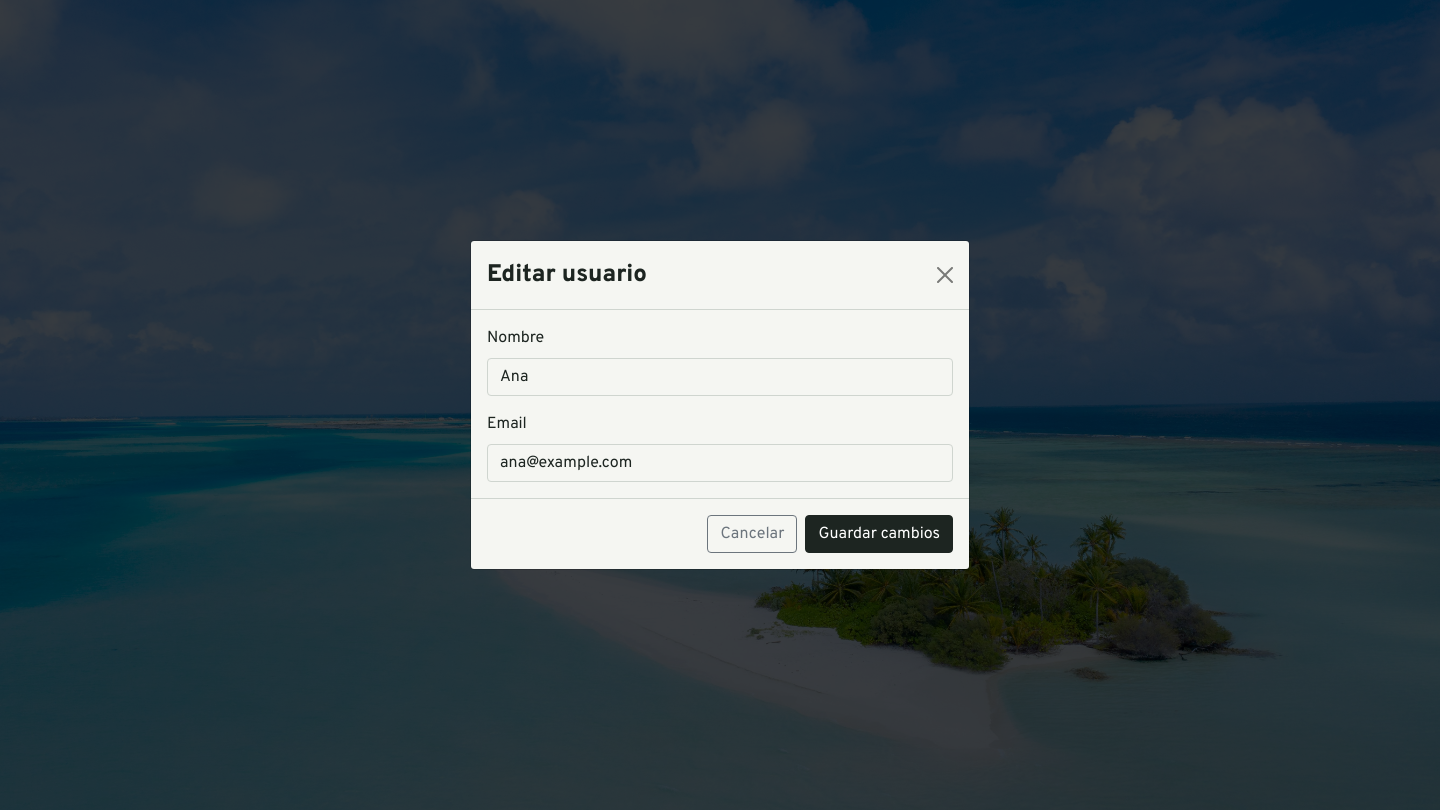
Test case: B7 EditUserModal › disables the buttons and shows the busy label while saving
The width and height of the screenshot is (1440, 810).
Click the button "Guardar cambios" at {"x": 879, "y": 534}, box [806,515,953,553]
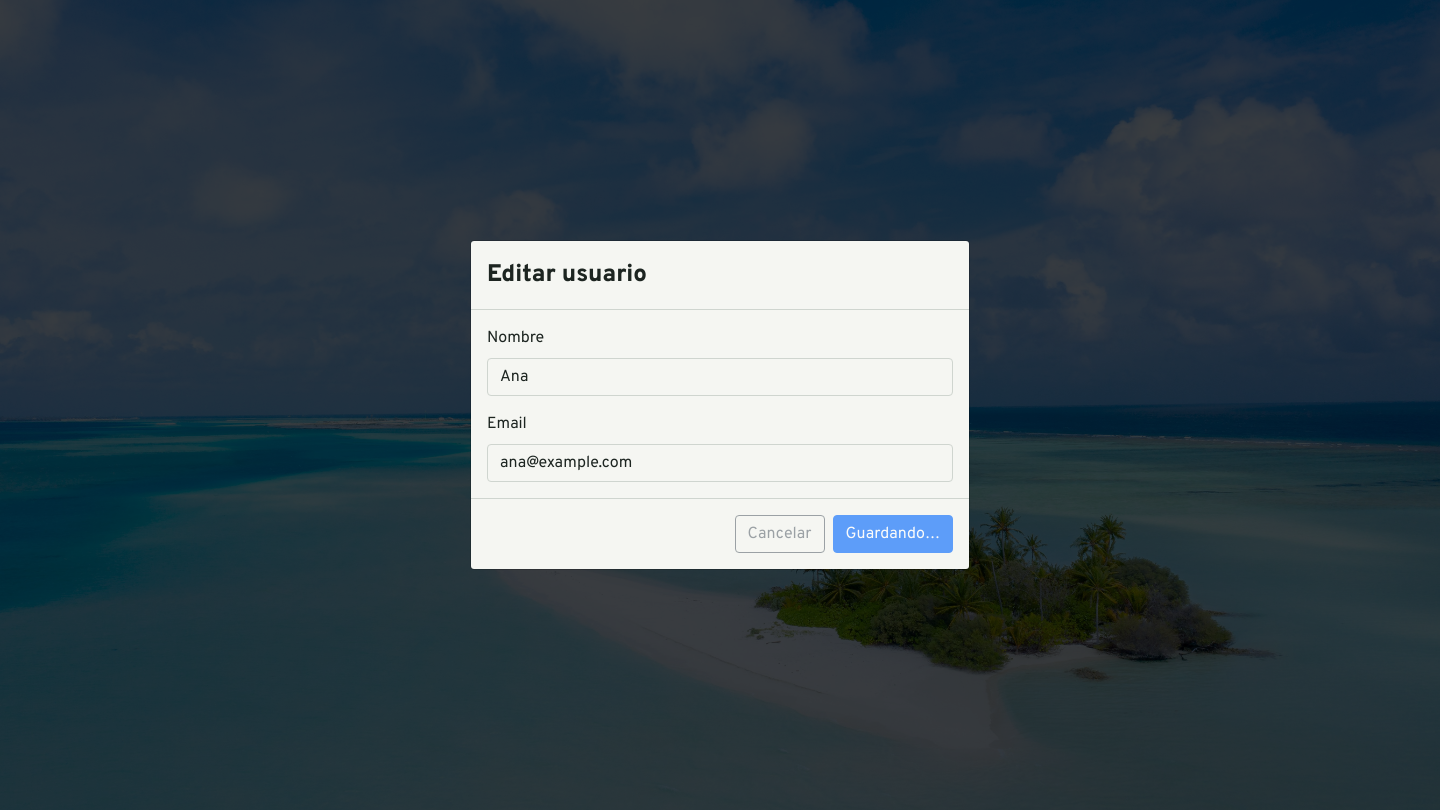
Expected: the button "Guardando…" is disabled, [833,515,953,553]
Expected: the button "Cancelar" is disabled, [735,515,825,553]
